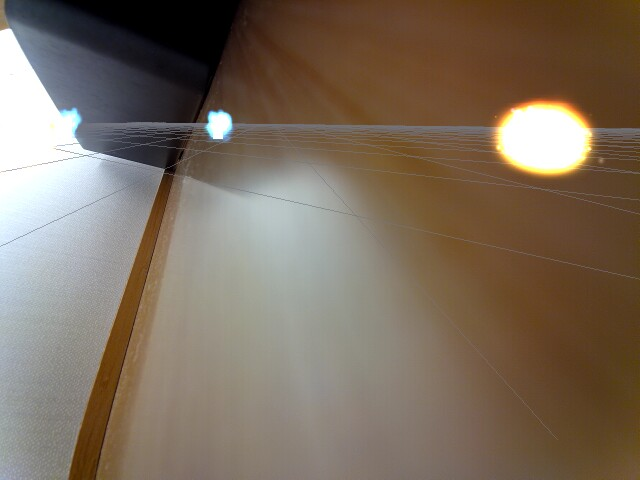fire: (488, 98, 596, 174)
